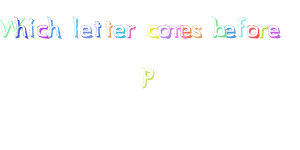P: (138, 66, 157, 89)
W: (1, 15, 18, 40)
b: (211, 15, 226, 38)
c: (146, 24, 160, 40), (35, 24, 49, 39)
e: (267, 22, 282, 40), (79, 22, 93, 39), (112, 22, 126, 39), (224, 23, 237, 40), (180, 23, 192, 39)
f: (236, 16, 247, 38)
h: (46, 13, 62, 40), (14, 15, 29, 40)
i: (28, 17, 37, 39)
l: (70, 14, 80, 39)
m: (167, 22, 184, 40)
o: (158, 23, 171, 40), (246, 24, 260, 39)
r: (125, 21, 137, 40), (258, 23, 270, 39)
s: (191, 23, 204, 39)
t: (92, 18, 102, 39), (104, 19, 113, 40)
